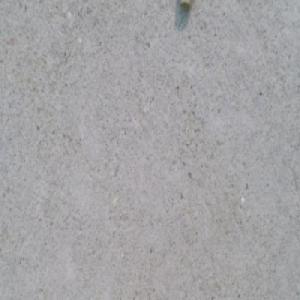BoltNutSet: (177, 0, 194, 10)
